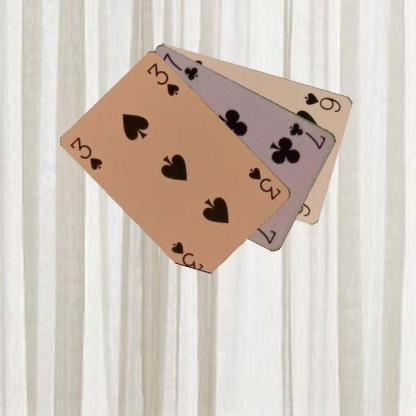3s: (67, 134, 104, 172), (246, 165, 283, 201)
6s: (302, 89, 342, 114)
7c: (286, 120, 328, 150)
